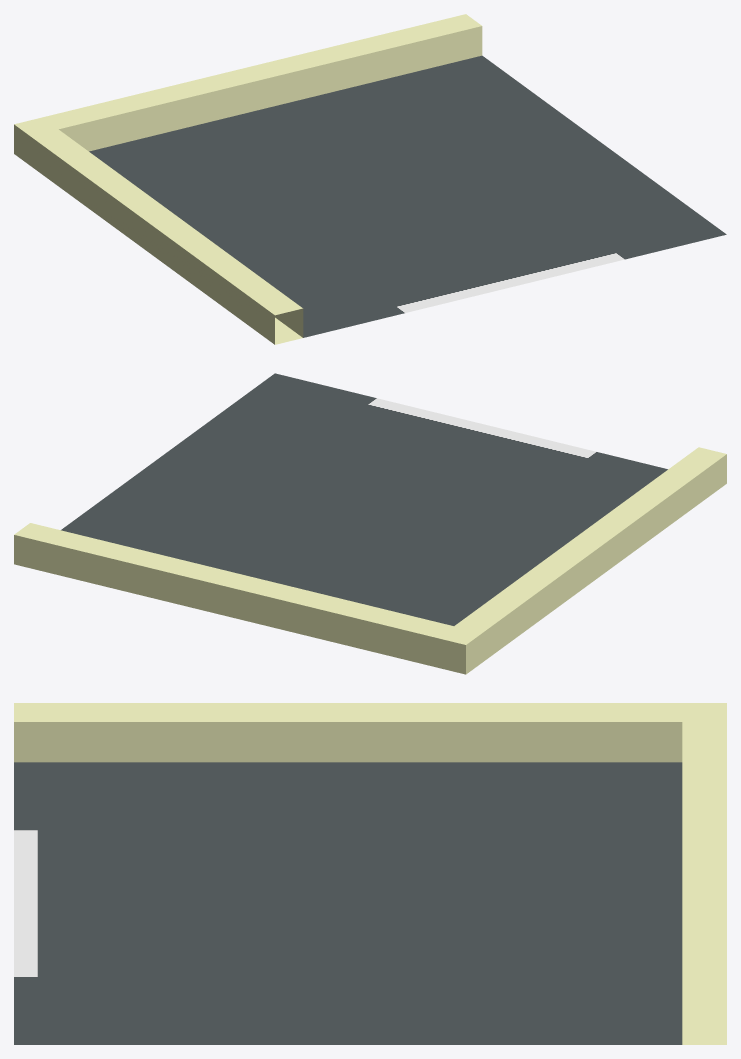
The model's file is road_corner_vertical_upleft.fbx.
3 views of the same model, one above another, from view 1: azimuth 30°, elevation 25°; view 2: azimuth 150°, elevation 25°; view 3: azimuth 270°, elevation 25° (orthographic). The views are drawn at different scales.
Visible parts, largest first — view 1: pPlane1, pPlane2; view 2: pPlane1, pPlane2; view 3: pPlane1, pPlane2.
Part boxes in pixels (x1,y1,x2,y2): pPlane1: [89, 55, 726, 337]; pPlane2: [14, 14, 482, 344]; pPlane1: [61, 373, 667, 625]; pPlane2: [14, 447, 726, 674]; pPlane1: [14, 762, 682, 1044]; pPlane2: [14, 703, 726, 1044].
Bounding box in the file's own units: 107 × 6.67 × 107.
